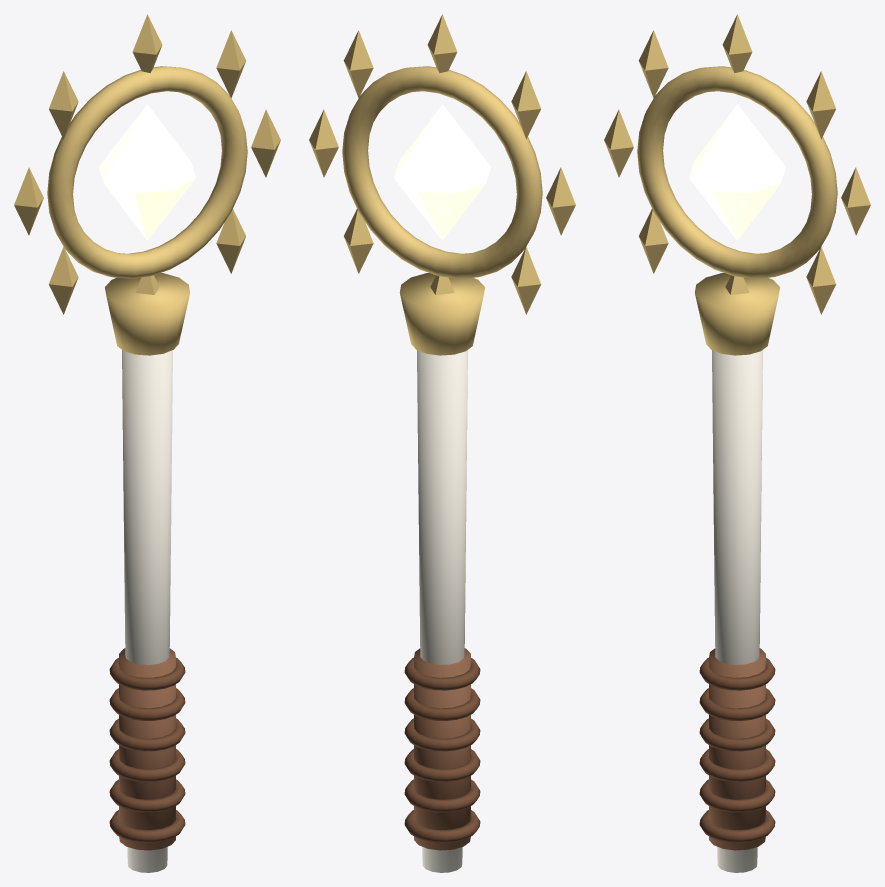
Rendered from varinha-paladino-490.glb.
3 renders of one model, left to right at view 1: azimuth 30°, elevation 25°; view 2: azimuth 150°, elevation 25°; view 3: azimuth 330°, elevation 25°, orthographic.
Parts seen in each view (by area): view 1: varinha-paladino; view 2: varinha-paladino; view 3: varinha-paladino.
Part boxes in pixels (<box>): varinha-paladino: <box>14,14,280,872</box>; varinha-paladino: <box>309,14,575,872</box>; varinha-paladino: <box>604,14,870,872</box>.
Size of the model in its own units: 0.214 by 0.6514 by 0.07.
